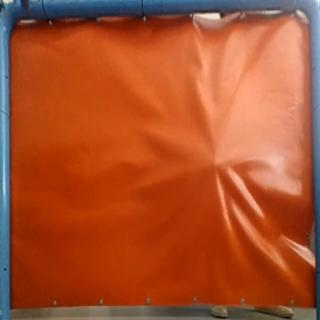Hit-hRxx: (208, 157, 224, 173)
